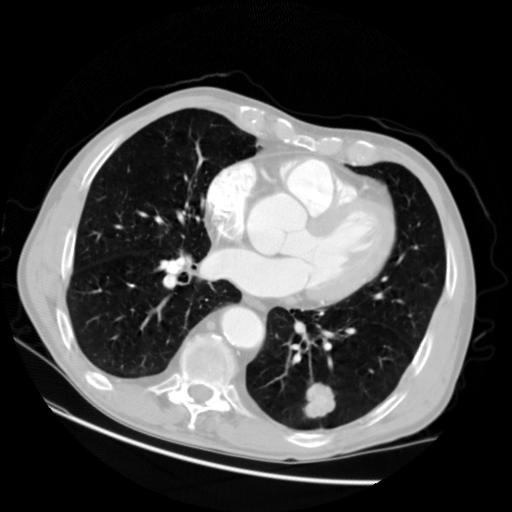nodule: (294, 376, 341, 423)
